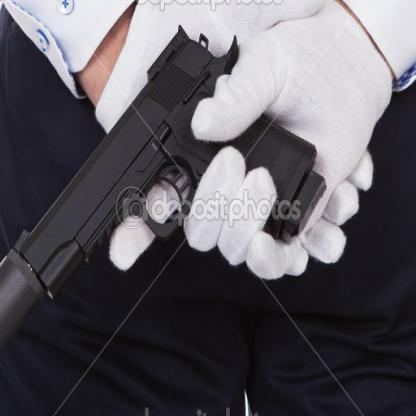gun: (0, 17, 339, 415)
